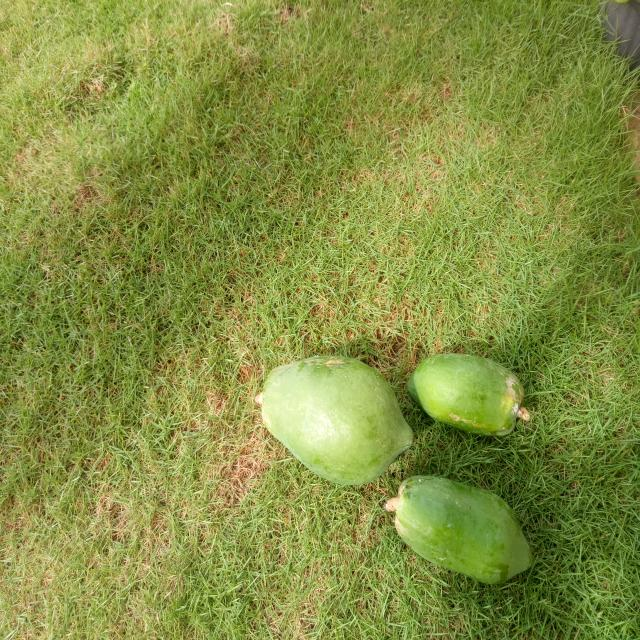Pepaya unrippen: (246, 349, 413, 487), (383, 482, 540, 587), (402, 349, 534, 443)
